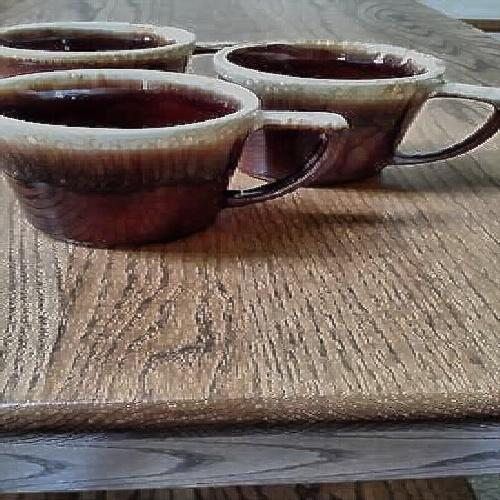mug: (6, 67, 318, 245), (214, 36, 500, 178), (11, 19, 203, 93)
